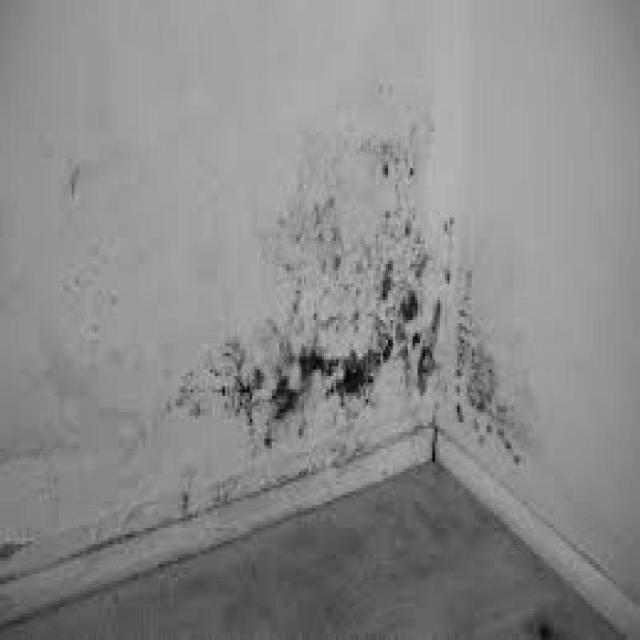stain marks: (148, 92, 542, 518)
